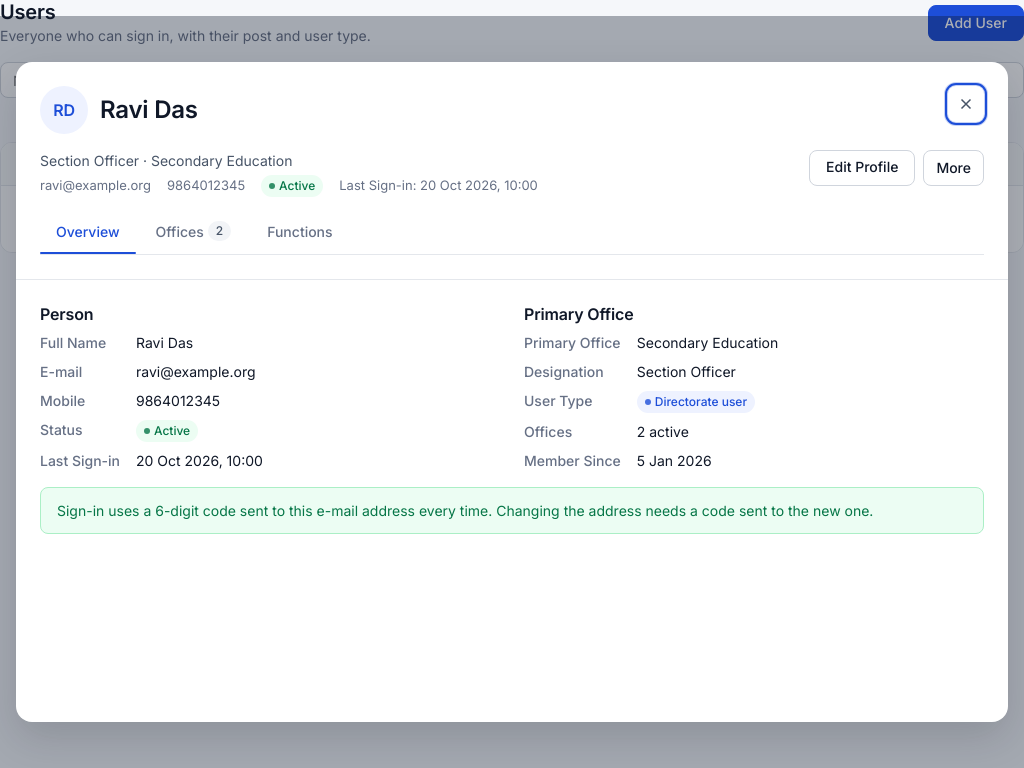
Test: the header and its menus (decision 32) › shows the facts; each action only with its function; no Sign Out Everywhere
The width and height of the screenshot is (1024, 768).
Expected: the text "Section Officer · Secondary Education" is shown, [40,152,292,169]
Expected: the text "ravi@example.org" in the row of "Last Sign-in: 20 Oct 2026, 10:00" is shown, [40,177,151,193]
Click the button "More". click: coordinates (954, 168)
box: [923,150,984,186]
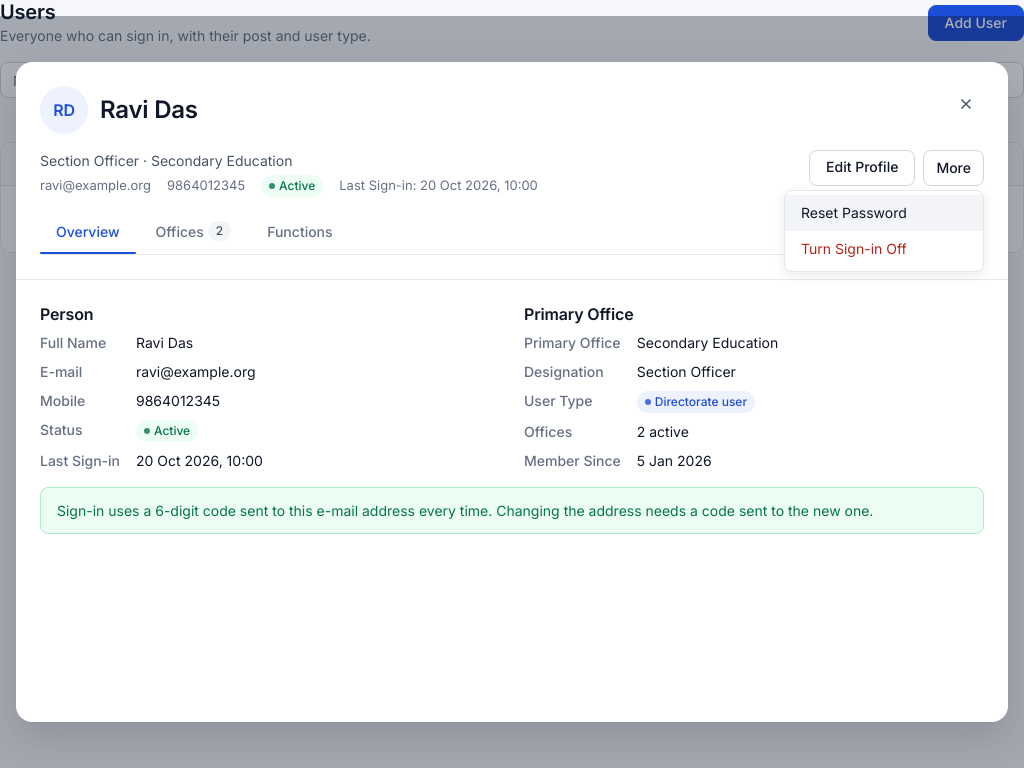
Result: the menu items read "Reset Password", "Turn Sign-in Off", in this order at [785,195,983,231]; [785,231,983,267]
